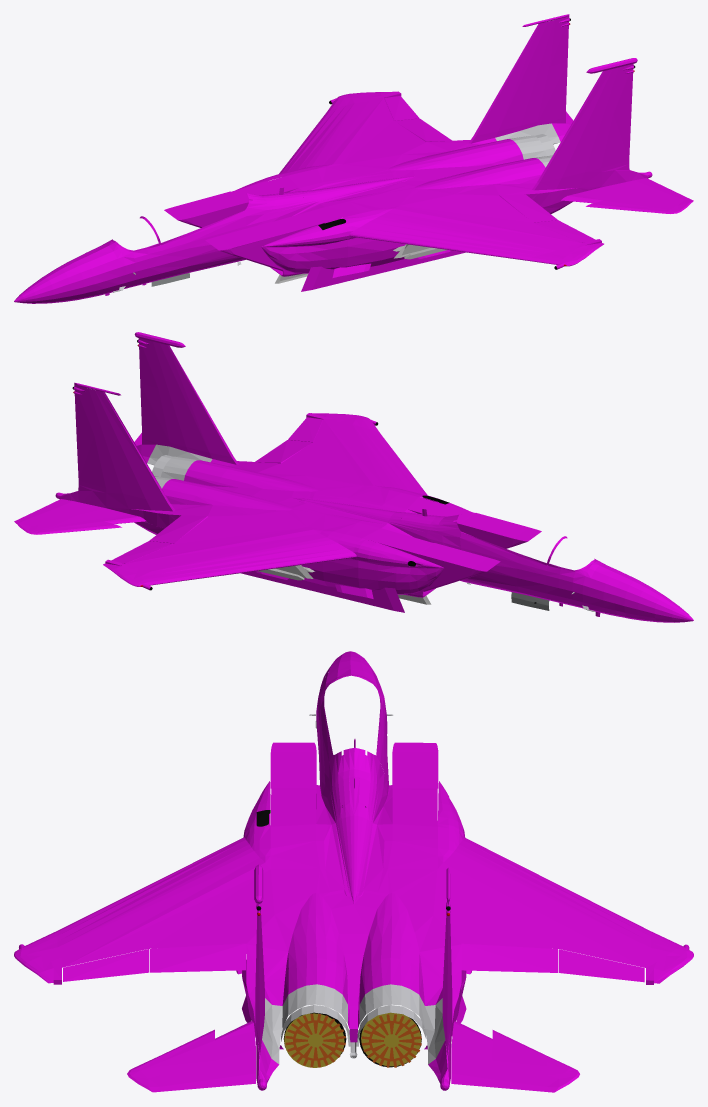
The model's file is f15e.body.glb.
3 renders of one model, top to bottom at view 1: azimuth 30°, elevation 25°; view 2: azimuth 150°, elevation 25°; view 3: azimuth 270°, elevation 25°, orthographic. The views are drawn at different scales.
Parts seen in each view (by area): view 1: body; view 2: body; view 3: body.
Part boxes in pixels (box(x1,y1,x2,y2)): body: box(14, 14, 693, 303); body: box(14, 332, 693, 622); body: box(14, 651, 693, 1092).
Size of the model in its own units: 16.03 by 4.1 by 10.47.
